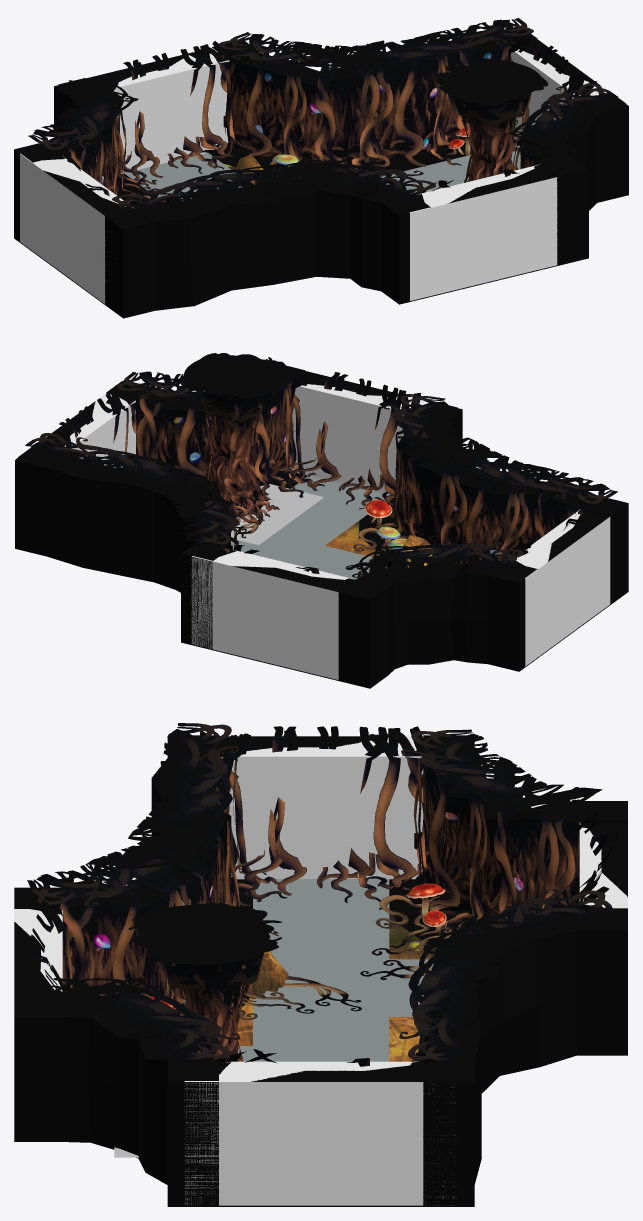
File: Dungeon_021_RoadX_001.fbx
The picture shows the model from 3 angles, top to bottom: view 1: azimuth 30°, elevation 25°; view 2: azimuth 150°, elevation 25°; view 3: azimuth 270°, elevation 25°; orthographic projection. The views are drawn at different scales.
Visible parts, largest first — view 1: Dan1, DoorWay_NavMask (1) (×2), Dungeon_021_Tsuta_003, Dungeon_021_Tsuta_002, DoorWay_NavMask (×4), un_021_Door_002 (×4), un_021_Door_002_Object1 (×2), Dungeon_021_Object_010, Dungeon_021_Object_011, Dan1_shadow, Quad_Nav_SP (1), Quad_Nav_SP; view 2: Dan1, DoorWay_NavMask (1) (×2), Dungeon_021_Tsuta_003, DoorWay_NavMask (×4), Dungeon_021_Tsuta_002, un_021_Door_002 (×4), un_021_Door_002_Object1 (×2), Dungeon_021_Object_010, Dungeon_021_Object_011, Quad_Nav_SP (2), Quad_Nav_SP, Dangeonpats_001_shadow_002 (+3 smaller); view 3: Dan1, Dungeon_021_Tsuta_003, DoorWay_NavMask (1) (×2), DoorWay_NavMask (×4), Quad_Nav_SP, Dungeon_021_Tsuta_002, un_021_Door_002_Object1 (×3), un_021_Door_002 (×4), Dungeon_021_Object_010, Quad_Nav_SP (1), Dungeon_021_Tsuta_001, Dungeon_021_Object_011 (+4 smaller).
Boxes of the visible parts, bbox=[...] form: Dan1: bbox=[14, 27, 628, 318]; DoorWay_NavMask (1) (×2): bbox=[20, 153, 557, 303]; Dungeon_021_Tsuta_003: bbox=[28, 18, 618, 212]; Dungeon_021_Tsuta_002: bbox=[64, 25, 581, 208]; DoorWay_NavMask (×4): bbox=[33, 48, 606, 208]; un_021_Door_002 (×4): bbox=[17, 28, 625, 304]; un_021_Door_002_Object1 (×2): bbox=[104, 37, 596, 191]; Dungeon_021_Object_010: bbox=[436, 58, 548, 126]; Dungeon_021_Object_011: bbox=[461, 99, 515, 182]; Dan1_shadow: bbox=[117, 141, 471, 205]; Quad_Nav_SP (1): bbox=[124, 153, 242, 200]; Quad_Nav_SP: bbox=[380, 145, 522, 193]; Dan1: bbox=[15, 380, 628, 688]; DoorWay_NavMask (1) (×2): bbox=[191, 517, 610, 679]; Dungeon_021_Tsuta_003: bbox=[25, 359, 617, 580]; DoorWay_NavMask (×4): bbox=[65, 384, 580, 579]; Dungeon_021_Tsuta_002: bbox=[65, 376, 597, 577]; un_021_Door_002 (×4): bbox=[18, 365, 625, 680]; un_021_Door_002_Object1 (×2): bbox=[57, 370, 420, 505]; Dungeon_021_Object_010: bbox=[182, 353, 287, 428]; Dungeon_021_Object_011: bbox=[202, 391, 279, 524]; Quad_Nav_SP (2): bbox=[231, 476, 388, 551]; Quad_Nav_SP: bbox=[231, 534, 386, 579]; Dangeonpats_001_shadow_002: bbox=[231, 484, 323, 545]; Dan1: bbox=[14, 738, 627, 1206]; Dungeon_021_Tsuta_003: bbox=[27, 723, 615, 1060]; DoorWay_NavMask (1) (×2): bbox=[14, 909, 454, 1205]; DoorWay_NavMask (×4): bbox=[40, 736, 627, 1081]; Quad_Nav_SP: bbox=[253, 879, 389, 1061]; Dungeon_021_Tsuta_002: bbox=[48, 731, 594, 1065]; un_021_Door_002_Object1 (×3): bbox=[24, 726, 618, 992]; un_021_Door_002 (×4): bbox=[14, 735, 627, 1206]; Dungeon_021_Object_010: bbox=[128, 903, 281, 997]; Quad_Nav_SP (1): bbox=[287, 959, 433, 1016]; Dungeon_021_Tsuta_001: bbox=[182, 895, 476, 1019]; Dungeon_021_Object_011: bbox=[168, 963, 253, 1061].
Size of what is drawn, in the model's own units: 12.14 by 3.03 by 9.02.
